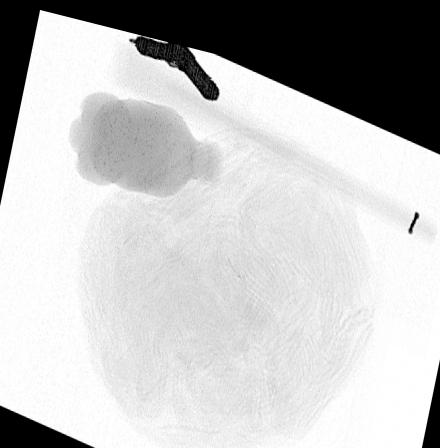Gun: (135, 27, 220, 89)
